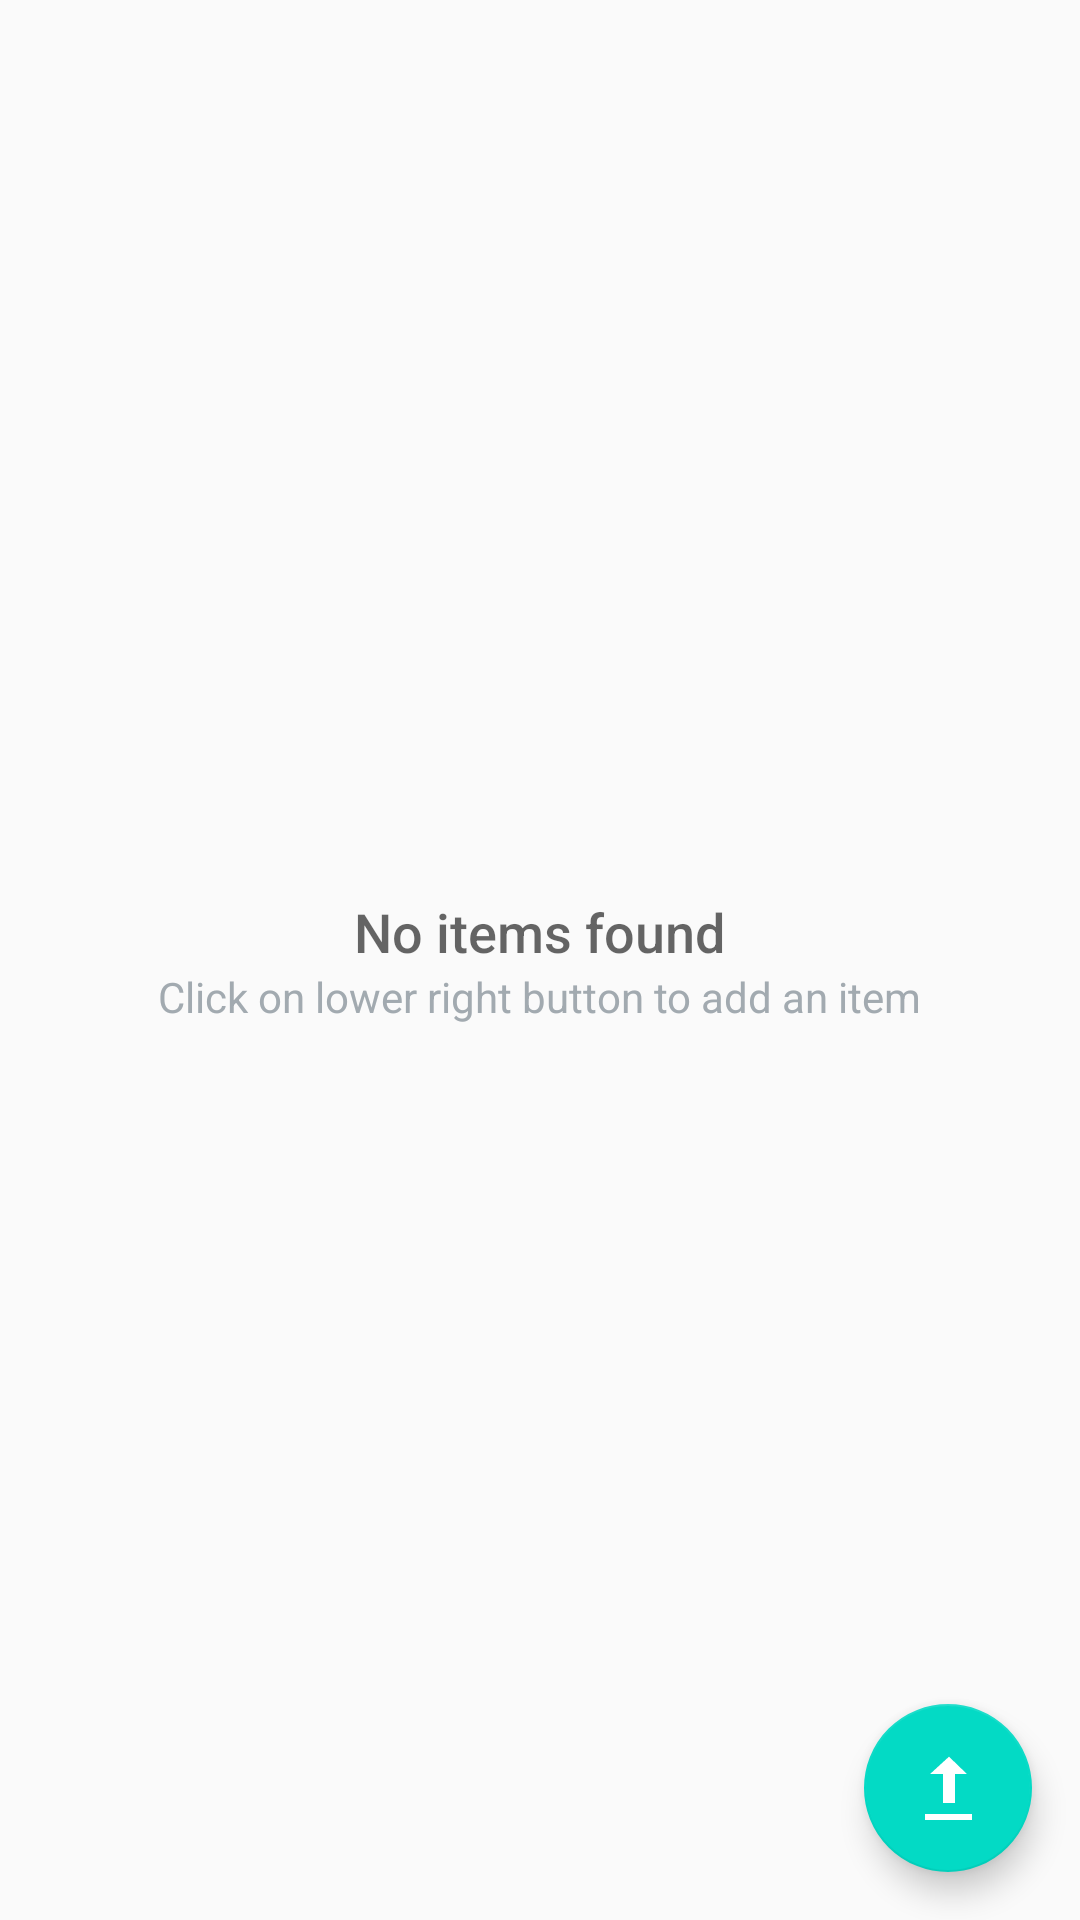

Named icons in this screenshot (1080w x 1920h) and their centers, (x,y):
upload: (948,1788)
